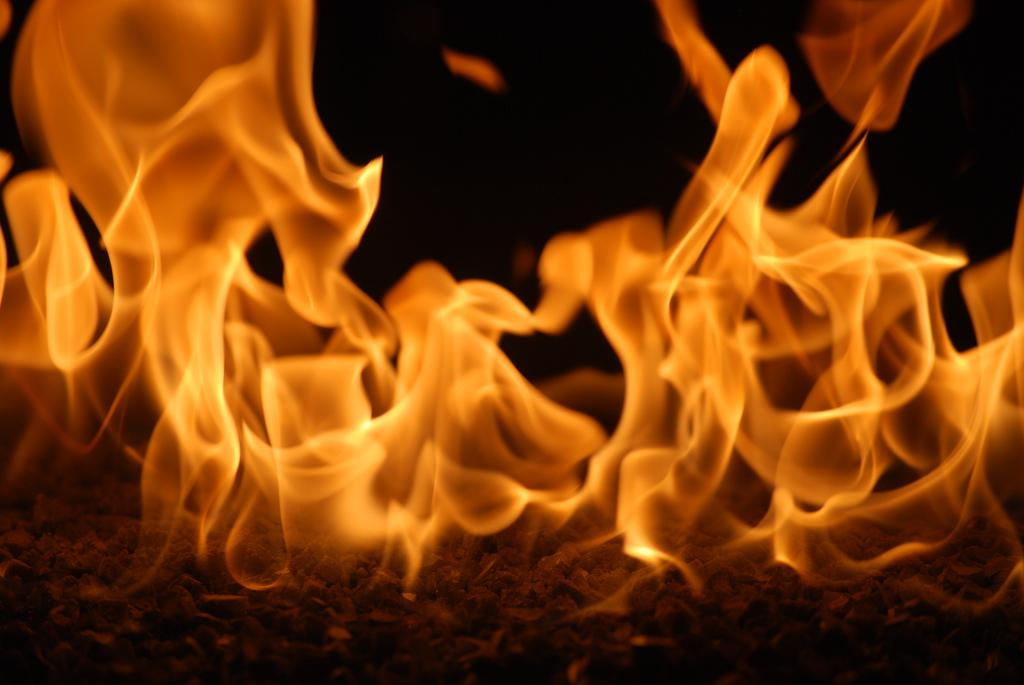fire: (640, 255, 1008, 513), (45, 10, 303, 255), (177, 295, 493, 493), (13, 265, 158, 417)
